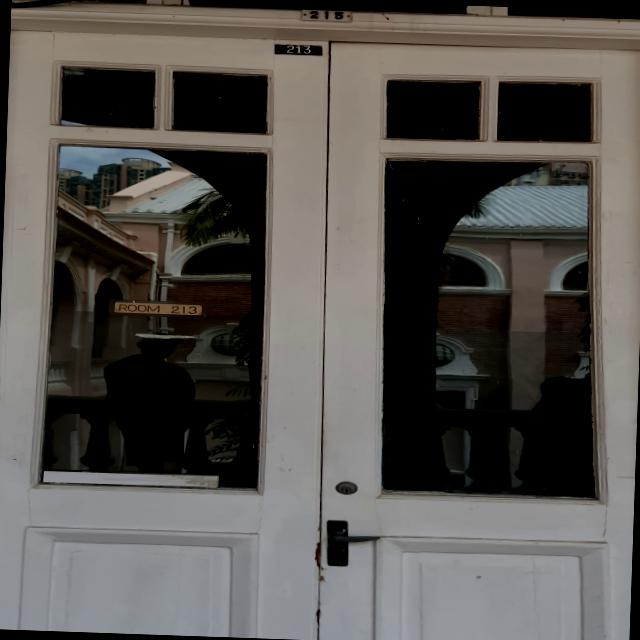room213: (272, 40, 324, 57)
